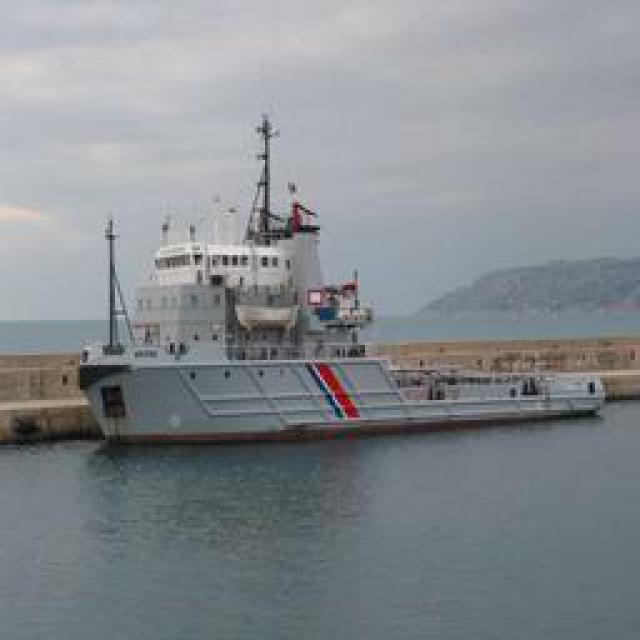Ship: (75, 94, 590, 444)
